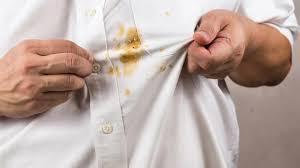mustard: (106, 18, 148, 75), (155, 48, 173, 74), (119, 86, 133, 96), (162, 11, 173, 21)
